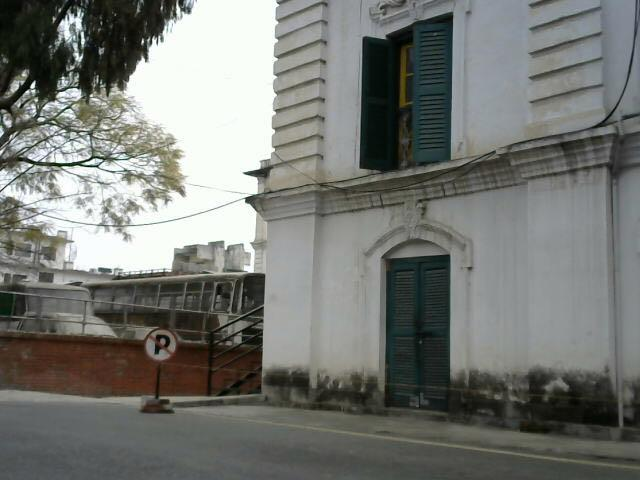Building: (263, 1, 640, 464)
Road: (5, 405, 640, 480)
Traffic sign: (139, 319, 186, 423)
Tree: (0, 0, 205, 233)
